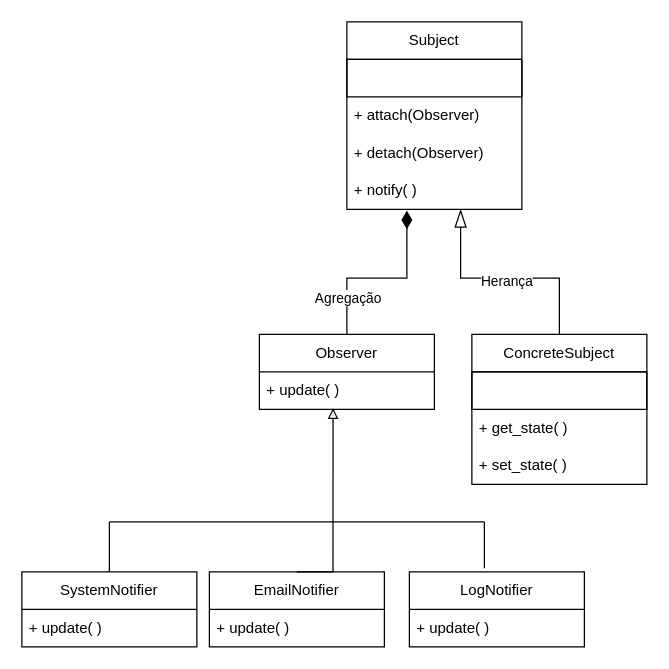
Image size: 669x669. Some labels were removed from this diagram. The shapes that lost their labels are listed below. From the top down, each one's centre as x and y in pixels, then its label:
At (434,77): "- observers: List".
At (559,390): "- state: Any".
